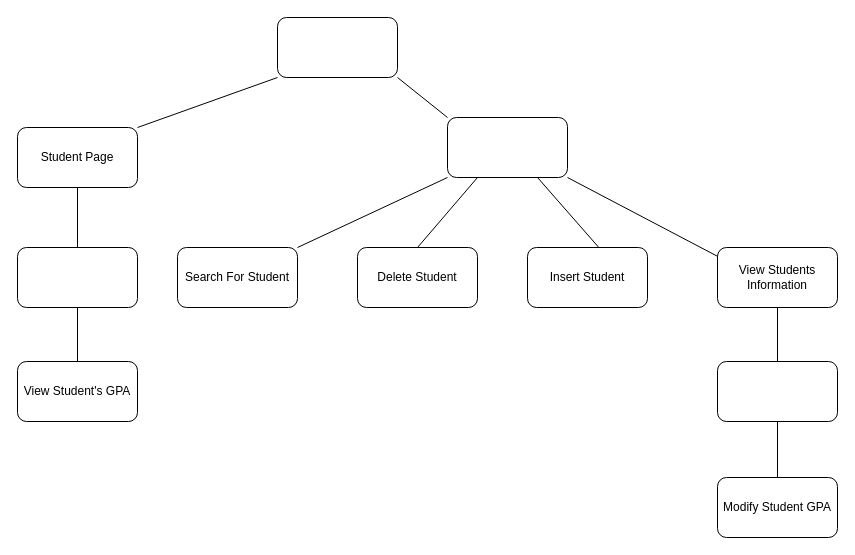
Some shapes in this 855 by 555 pixel diagram are drawn without their labels. Each missing label, with the centre of its shape:
Lecture Page: pixel 507 147
Login Page: pixel 337 47
View Student's Information: pixel 77 277
View Students GPA: pixel 777 391
